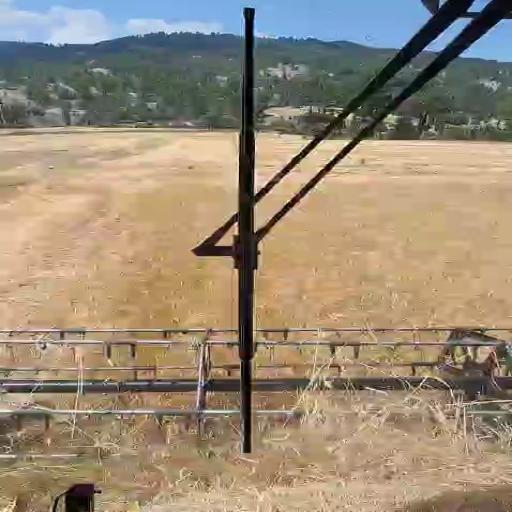bugday: (259, 141, 511, 326), (0, 132, 235, 328)
